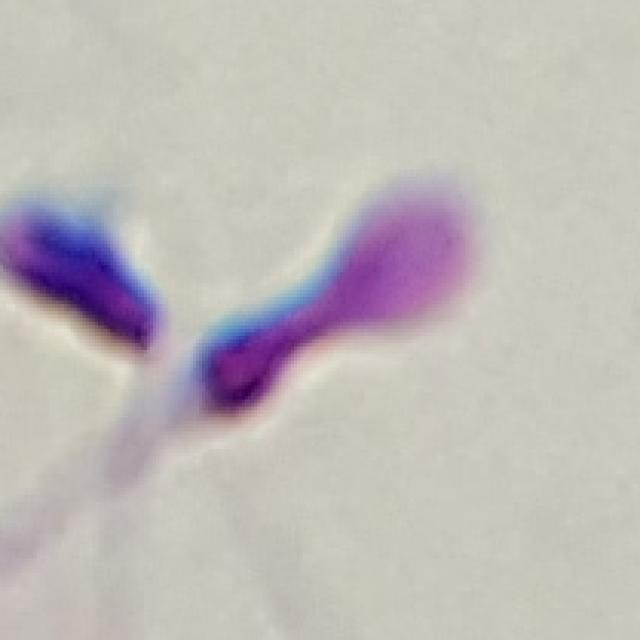abnormal sperm: (64, 179, 482, 509)
